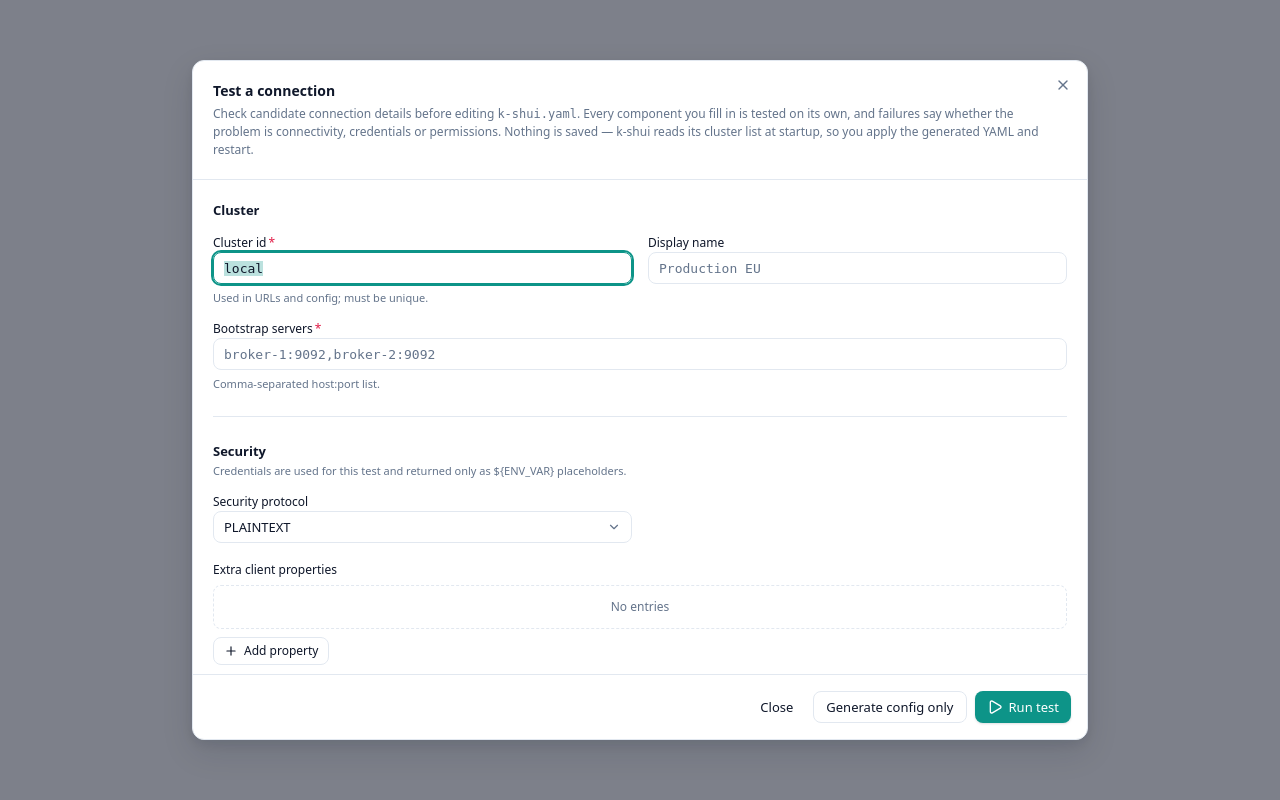
ConnectionTesterDialog › sends the typed details and shows a per-component verdict
This screenshot has width=1280, height=800.
Type "broker-1:9092" into the field labelled "Bootstrap servers*" at (640, 354), box [213, 338, 1067, 370]
(page scrolled)
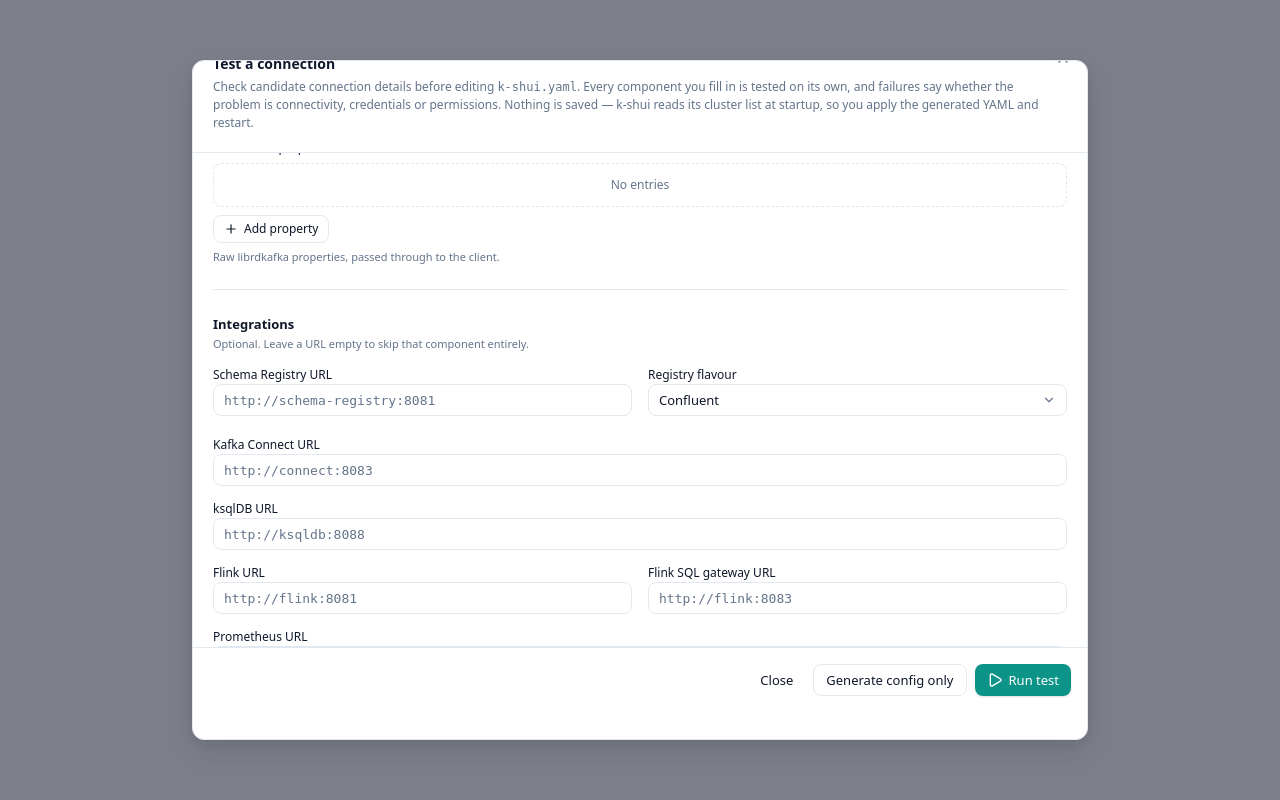
Type "http://sr:8081" into the field labelled "Schema Registry URL" at (422, 400), box [213, 384, 632, 416]
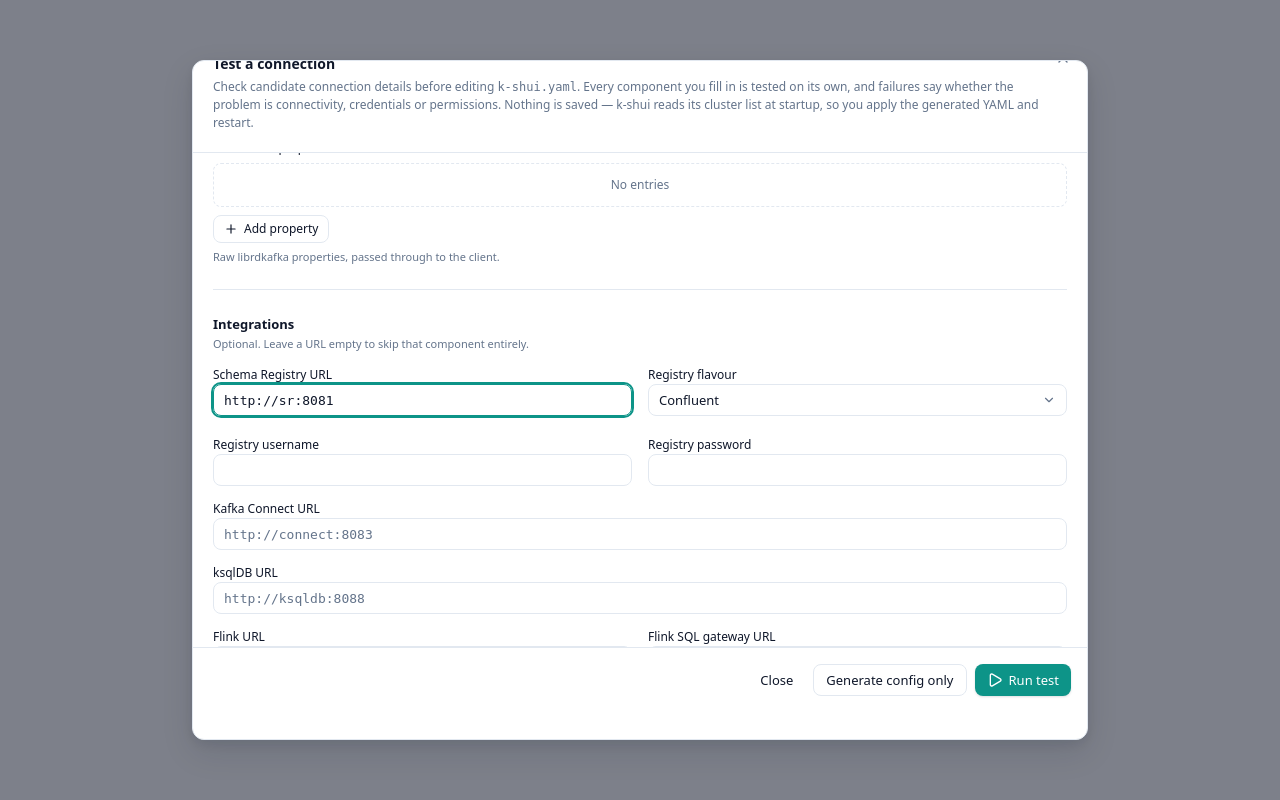
Click the button "Run test" at (1023, 680), box [974, 664, 1071, 696]
(page scrolled)
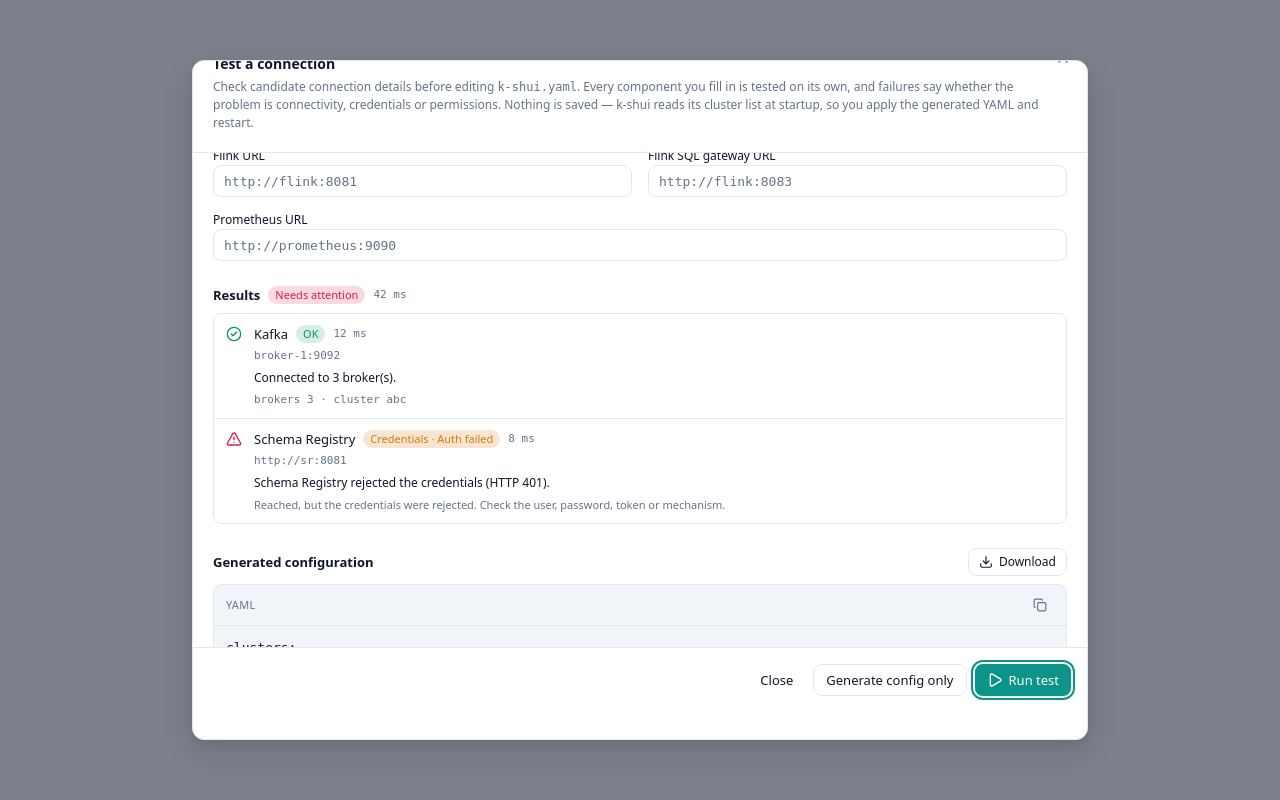
Check: the text "Needs attention" is shown, box [268, 286, 365, 304]
Check: the text "Credentials · Auth failed" is shown, box [363, 430, 500, 448]
Check: the text "Check the user, password, token or mechanism" is shown, box [254, 497, 725, 512]
